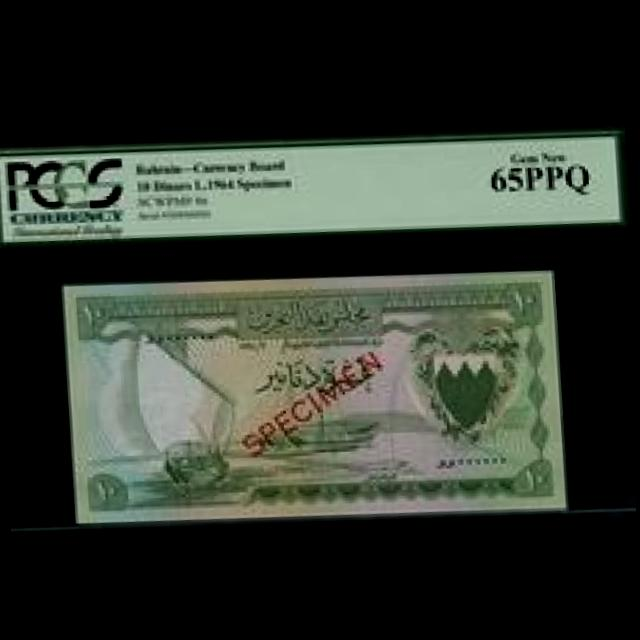banknote: (56, 245, 571, 540)
